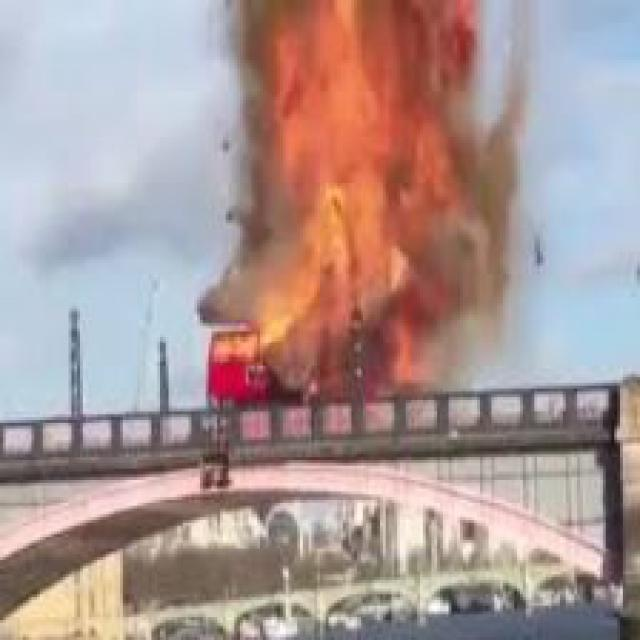fire: (217, 3, 506, 394)
